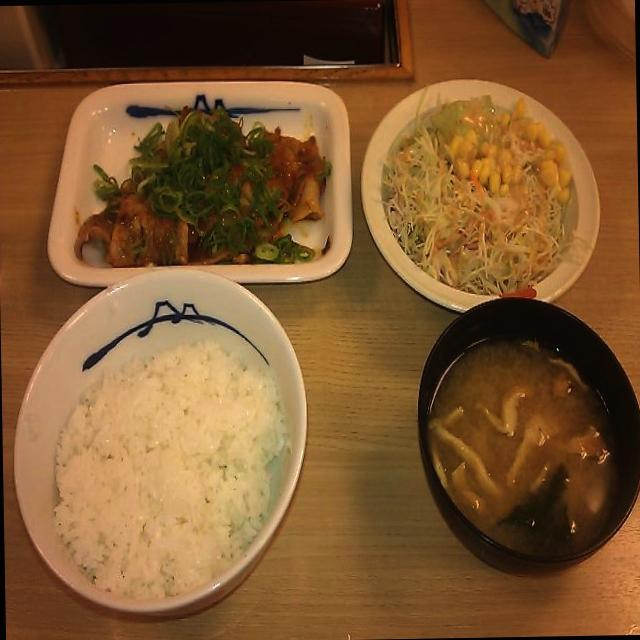Rice: (48, 325, 290, 604)
